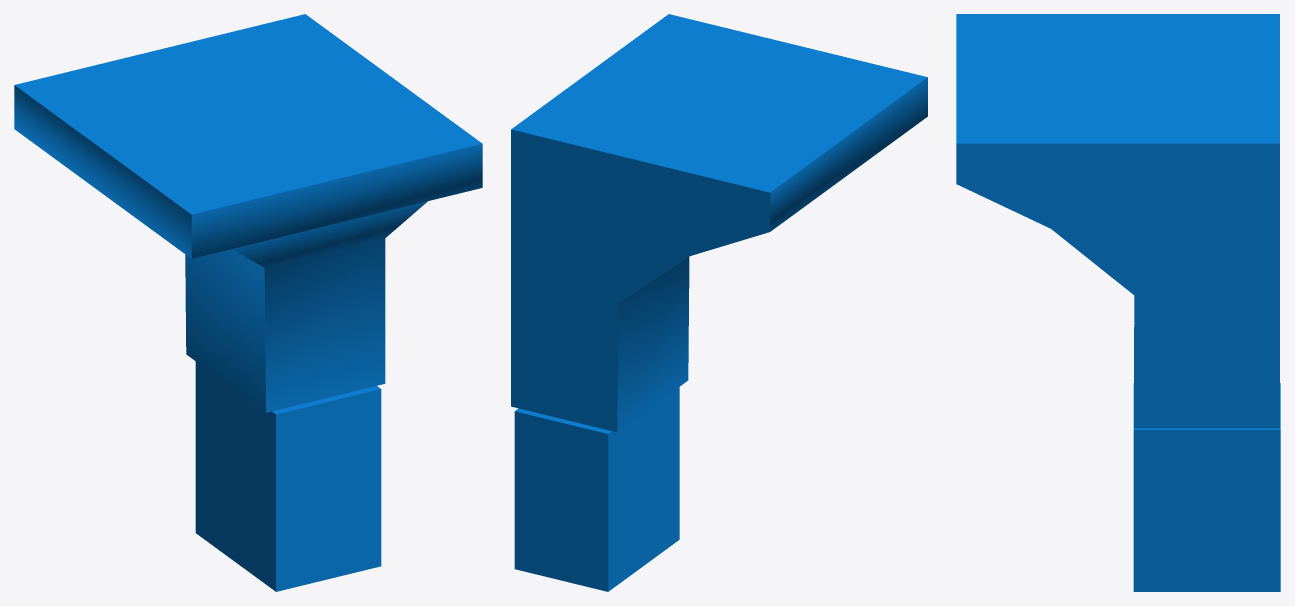
The model's file is Pillar_Up_04_Lod0.fbx.
3 renders of one model, left to right at view 1: azimuth 30°, elevation 25°; view 2: azimuth 150°, elevation 25°; view 3: azimuth 270°, elevation 25°, orthographic. The views are drawn at different scales.
Visible parts, largest first — view 1: Pillar_Up_04_Lod0; view 2: Pillar_Up_04_Lod0; view 3: Pillar_Up_04_Lod0.
Part boxes in pixels (x1,y1,x2,y2): Pillar_Up_04_Lod0: (14, 14, 482, 591); Pillar_Up_04_Lod0: (511, 14, 927, 591); Pillar_Up_04_Lod0: (956, 14, 1280, 591).
Bounding box in the file's own units: 365 × 590 × 385.
